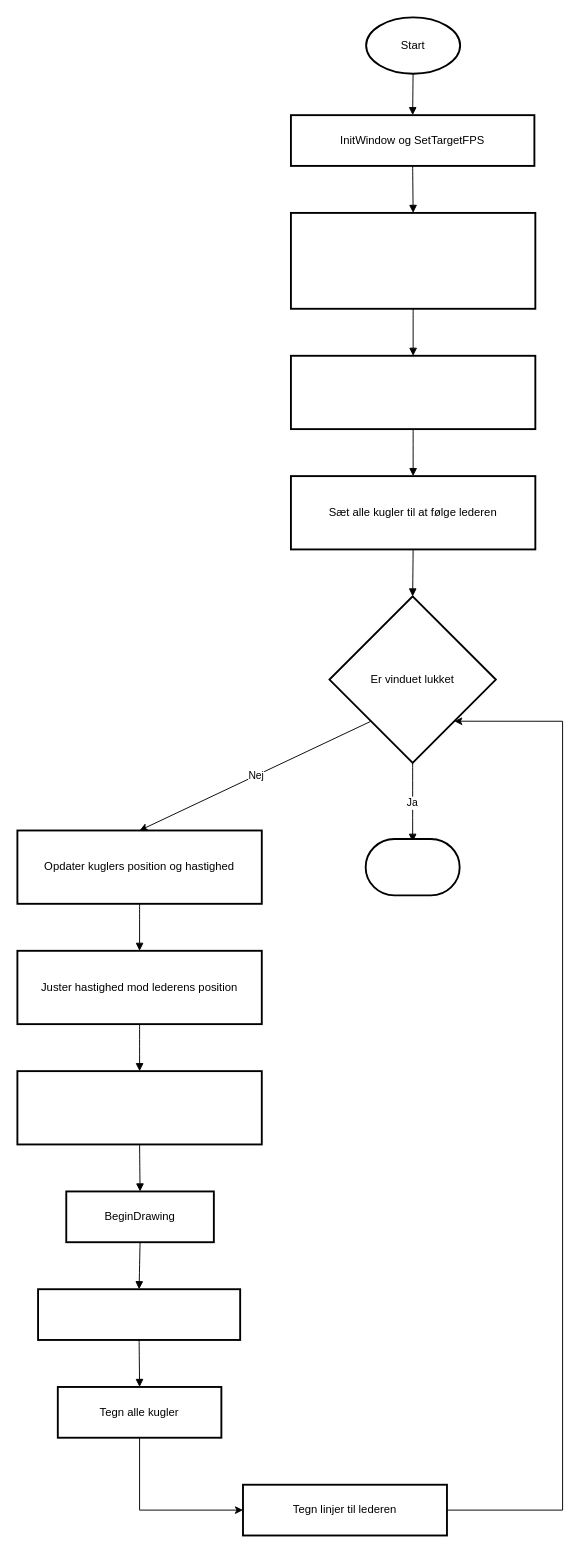
Image size: 587x1552. Some labels were removed from this diagram. Here are the shapes that lost their labels. From the top down, the centre of each, then its label:
(x=413, y=260): Opret kugler med tilfældig position farve fart og størrelse
(x=413, y=392): Vælg en tilfældig lederkugle
(x=412, y=867): CloseWindow og slut
(x=139, y=1107): Tjek vægkollision og reflekter modsatrettet
(x=139, y=1314): ClearBackground hvid
